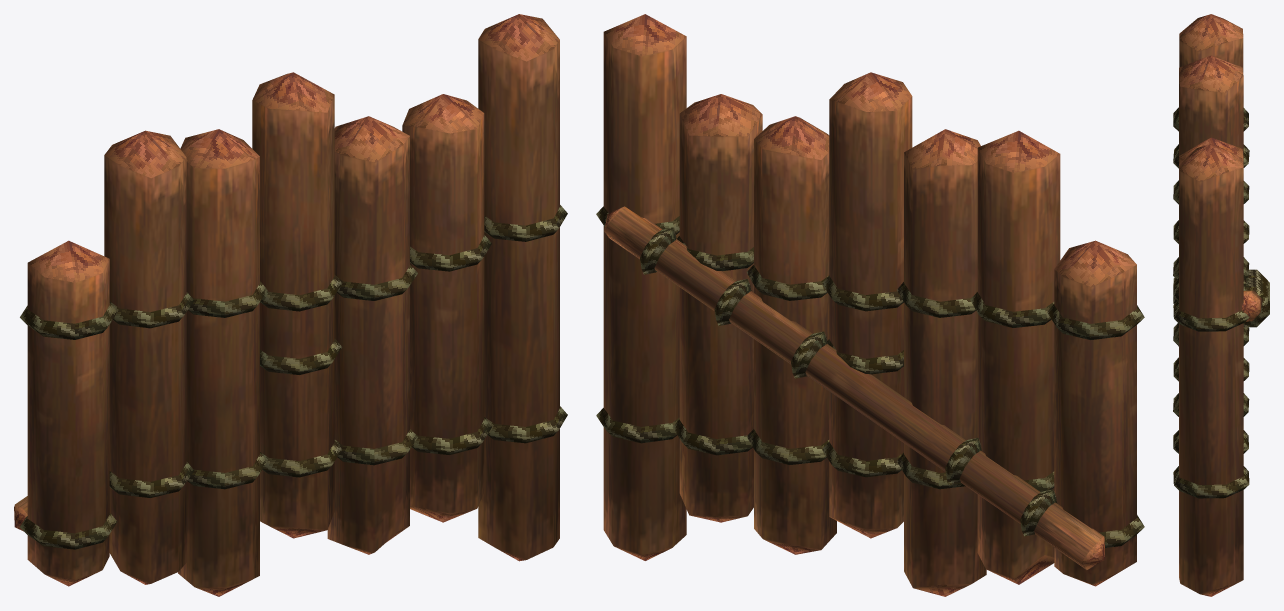
The model's file is INST_TROLLHOLE_TROLLDOOR.fbx.
3 renders of one model, left to right at view 1: azimuth 30°, elevation 25°; view 2: azimuth 150°, elevation 25°; view 3: azimuth 270°, elevation 25°, orthographic. The views are drawn at different scales.
Visible parts, largest first — view 1: INST_TROLLHOLE_TROLLDOOR; view 2: INST_TROLLHOLE_TROLLDOOR; view 3: INST_TROLLHOLE_TROLLDOOR.
Boxes of the visible parts, bbox=[...] form: INST_TROLLHOLE_TROLLDOOR: bbox=[14, 14, 567, 596]; INST_TROLLHOLE_TROLLDOOR: bbox=[596, 14, 1144, 596]; INST_TROLLHOLE_TROLLDOOR: bbox=[1173, 14, 1269, 596].
Bounding box in the file's own units: 41362 × 40817 × 7905.
3 materials, 3 textured.
